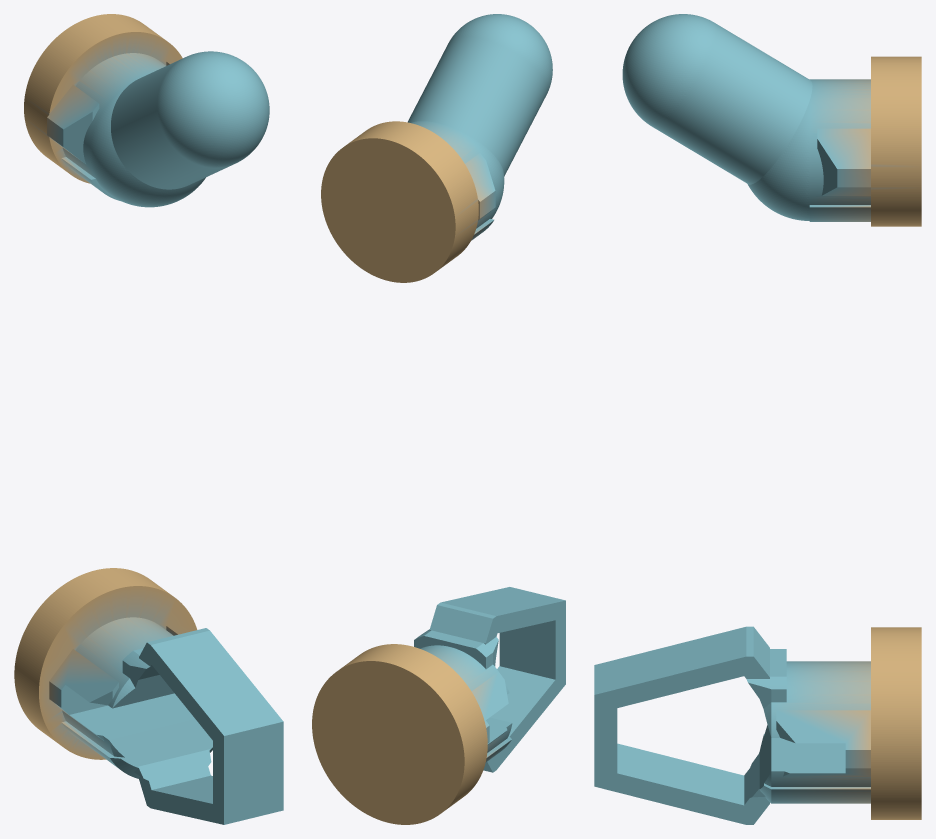
Rendered from pair-cheek.glb.
3 views of the same model, side by side, from view 1: azimuth 30°, elevation 25°; view 2: azimuth 150°, elevation 25°; view 3: azimuth 270°, elevation 25° (orthographic). The views are drawn at different scales.
Visible parts, largest first — view 1: peg-pair-cheek__v1__pf02c9-hoop5__nub120.stl; view 2: peg-pair-cheek__v1__pf02c9-hoop5__nub120.stl; view 3: peg-pair-cheek__v1__pf02c9-hoop5__nub120.stl.
Boxes of the visible parts, x1,y1,x2,y2 form: peg-pair-cheek__v1__pf02c9-hoop5__nub120.stl: [14, 14, 283, 824]; peg-pair-cheek__v1__pf02c9-hoop5__nub120.stl: [312, 14, 565, 824]; peg-pair-cheek__v1__pf02c9-hoop5__nub120.stl: [594, 14, 921, 824].
Size of the model in its own units: 0.00762 by 0.0345 by 0.0129.
